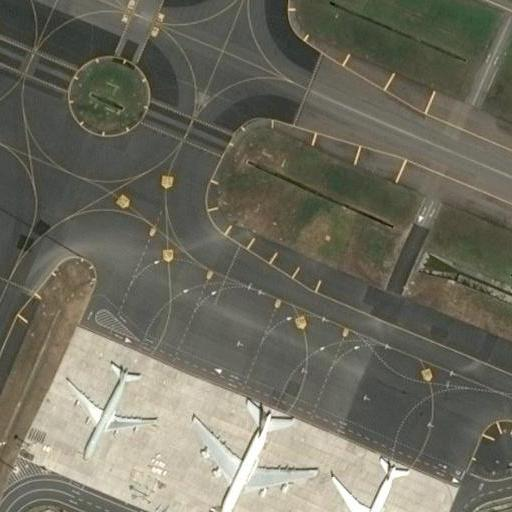Aircraft: (188, 393, 316, 512), (190, 393, 316, 512), (56, 356, 156, 464), (61, 355, 157, 461), (326, 450, 428, 512), (330, 456, 429, 512)
